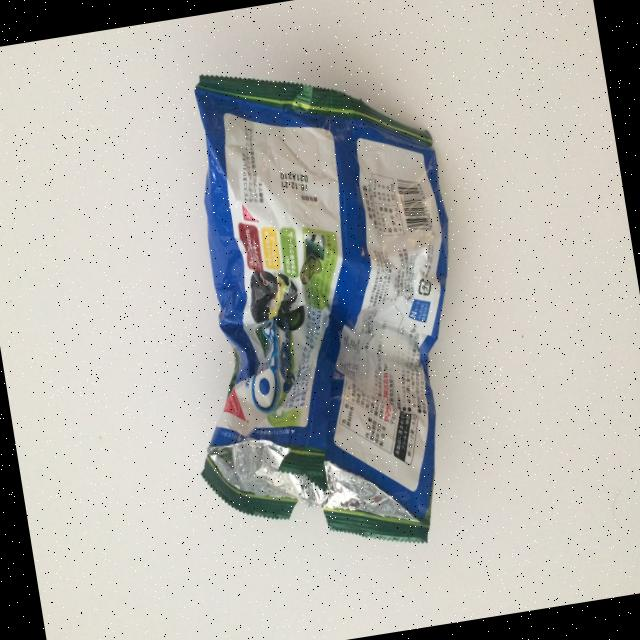plastic: (140, 39, 498, 576)
